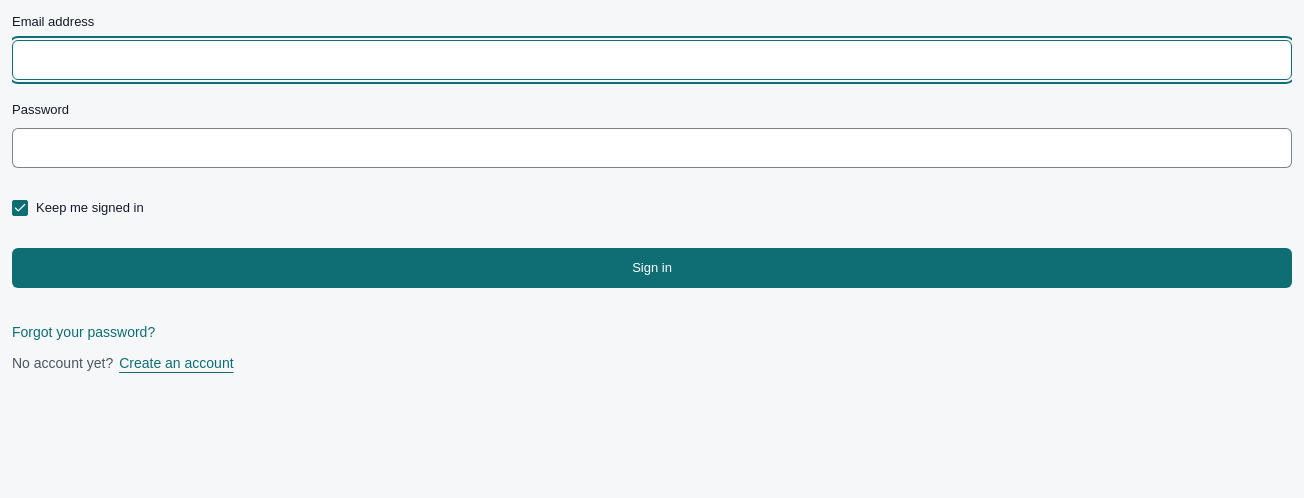
Test case: SignInForm (UI-001) › offers a resend action for EMAIL_NOT_VERIFIED
Step 1. Type "lena@example.edu" into the field labelled "Email address" → point(652, 60), box x1=12 y1=40 x2=1292 y2=80
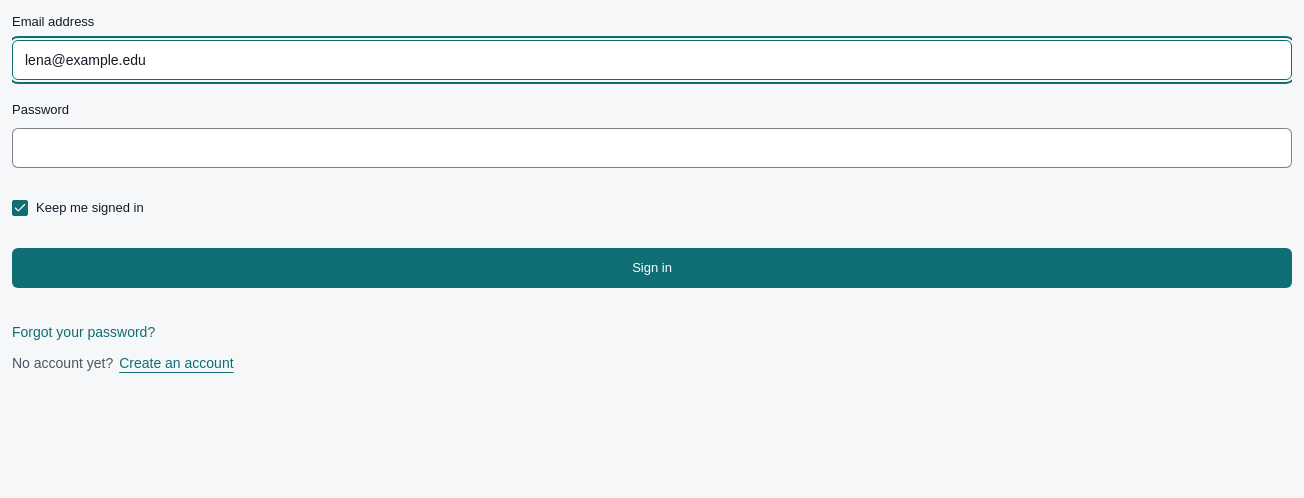
Step 2. Type "a-long-password" into the password field labelled "Password" → point(652, 148), box x1=12 y1=128 x2=1292 y2=168
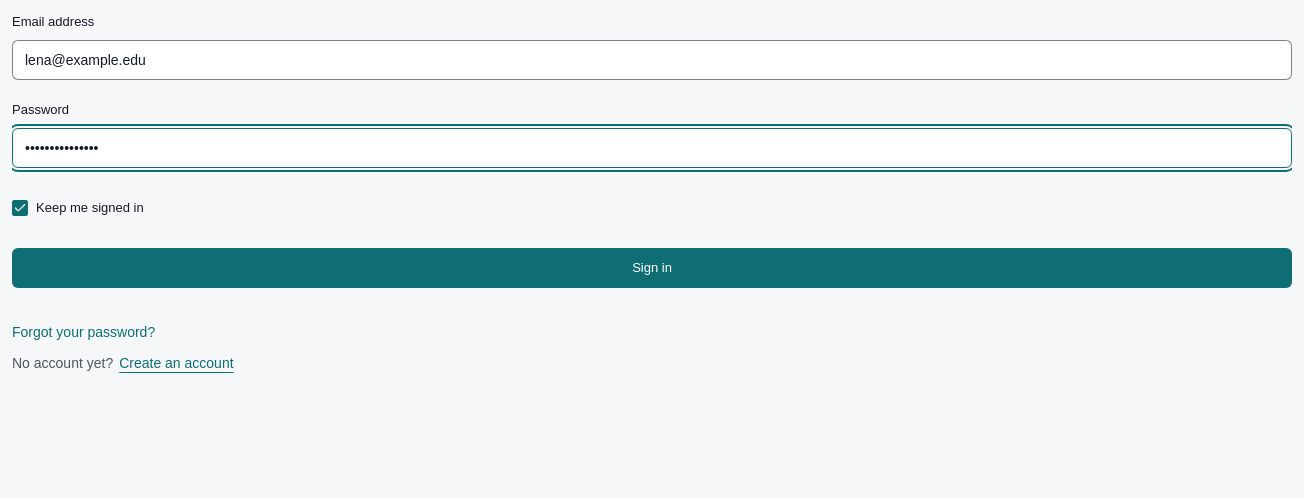
Step 3. Click the button "Sign in" → point(652, 268), box x1=12 y1=248 x2=1292 y2=288
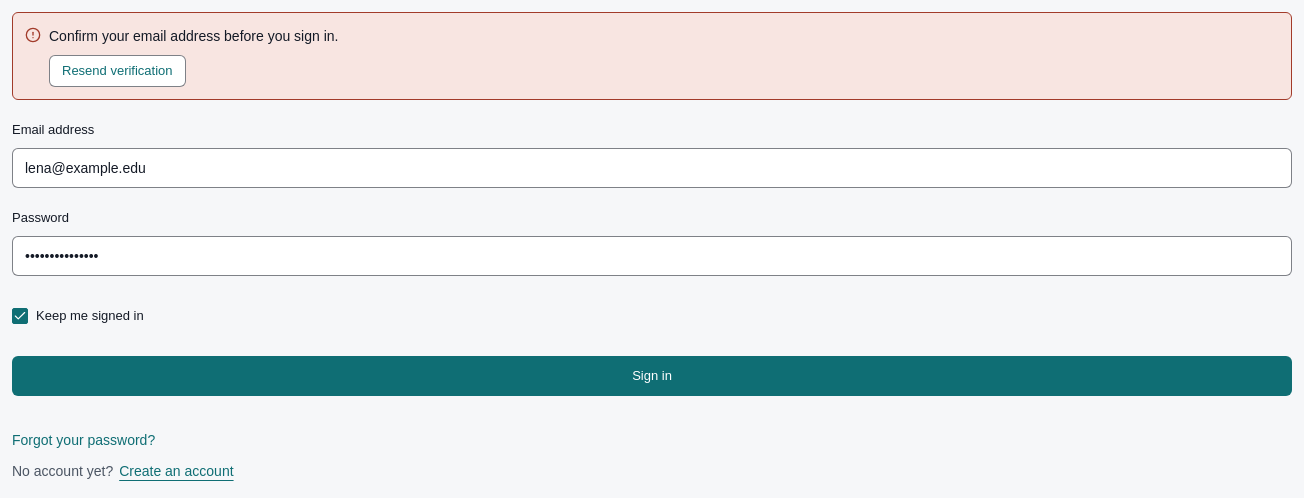
Check: the text "Confirm your email address before you sign in." is shown, box x1=49 y1=25 x2=338 y2=47
Step 4. Click the button "Resend verification" → point(117, 71), box x1=49 y1=55 x2=186 y2=87
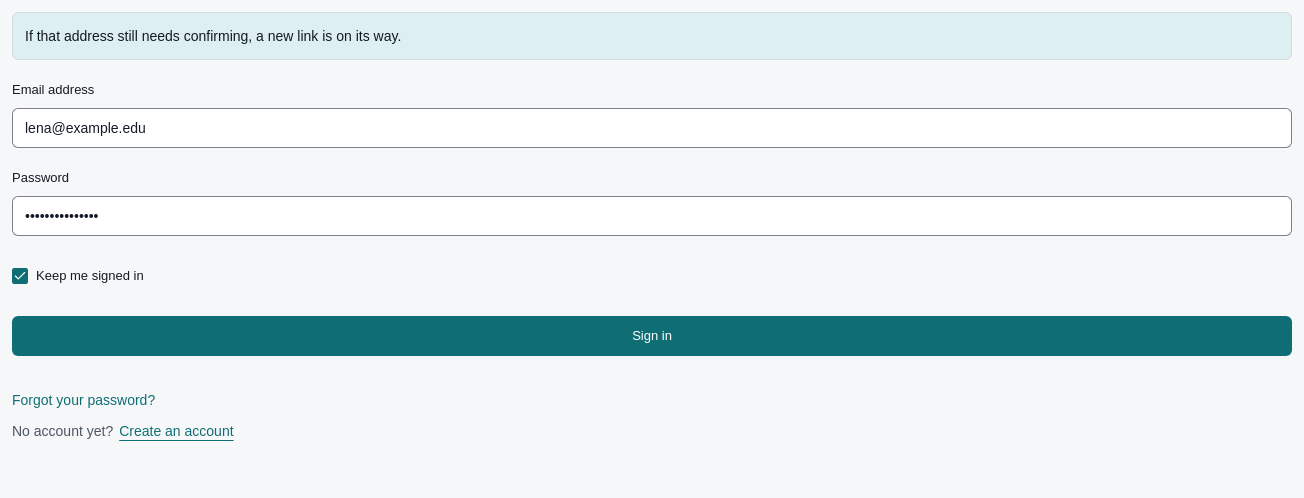
Check: the message reads "If that address still needs confirming, a new link is on its way.", box x1=25 y1=28 x2=401 y2=44
